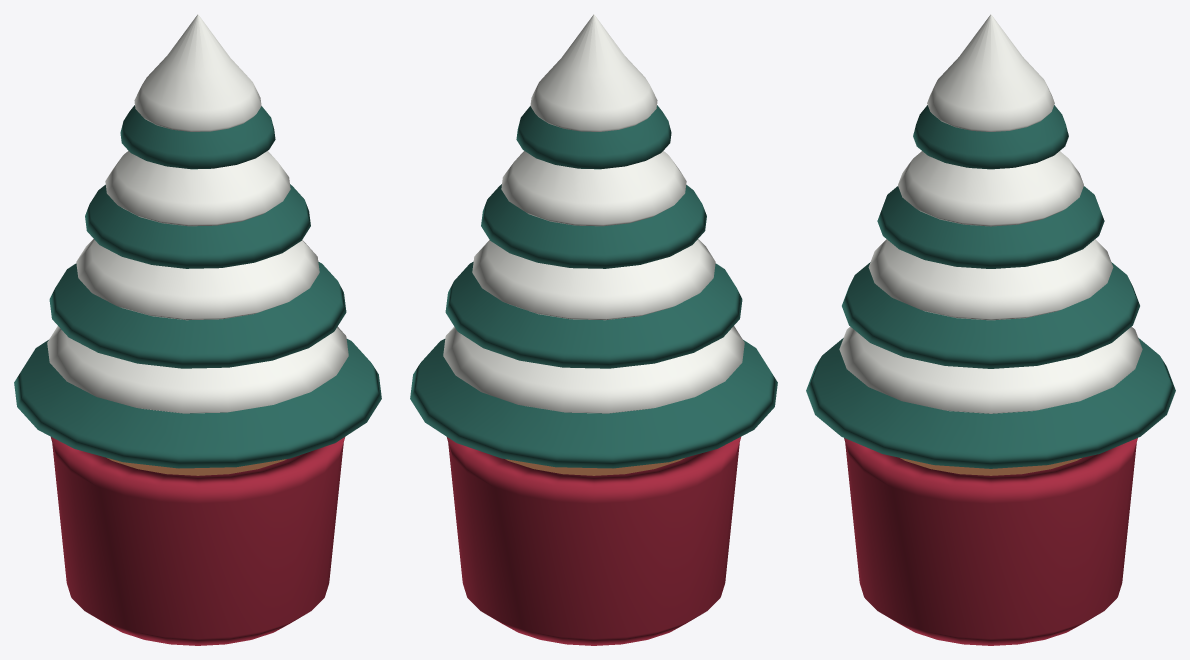
The model's file is christmas-storybook-potted-sapling-9bbc3445__18707.glb.
3 views of the same model, side by side, from view 1: azimuth 30°, elevation 25°; view 2: azimuth 150°, elevation 25°; view 3: azimuth 270°, elevation 25° (orthographic).
Parts seen in each view (by area): view 1: pine, berry, cream, oak; view 2: pine, berry, cream, oak; view 3: pine, berry, cream, oak.
Boxes of the visible parts, <box> form: pine: <box>14,105,381,468</box>; berry: <box>51,437,344,645</box>; cream: <box>47,14,348,413</box>; oak: <box>107,458,286,475</box>; pine: <box>410,105,777,468</box>; berry: <box>447,437,740,645</box>; cream: <box>443,14,744,413</box>; oak: <box>505,458,684,475</box>; pine: <box>806,105,1175,468</box>; berry: <box>844,438,1137,645</box>; cream: <box>839,14,1142,413</box>; oak: <box>900,458,1081,475</box>.
Bounding box in the file's own units: 0.7609 × 1.33 × 0.7609.
